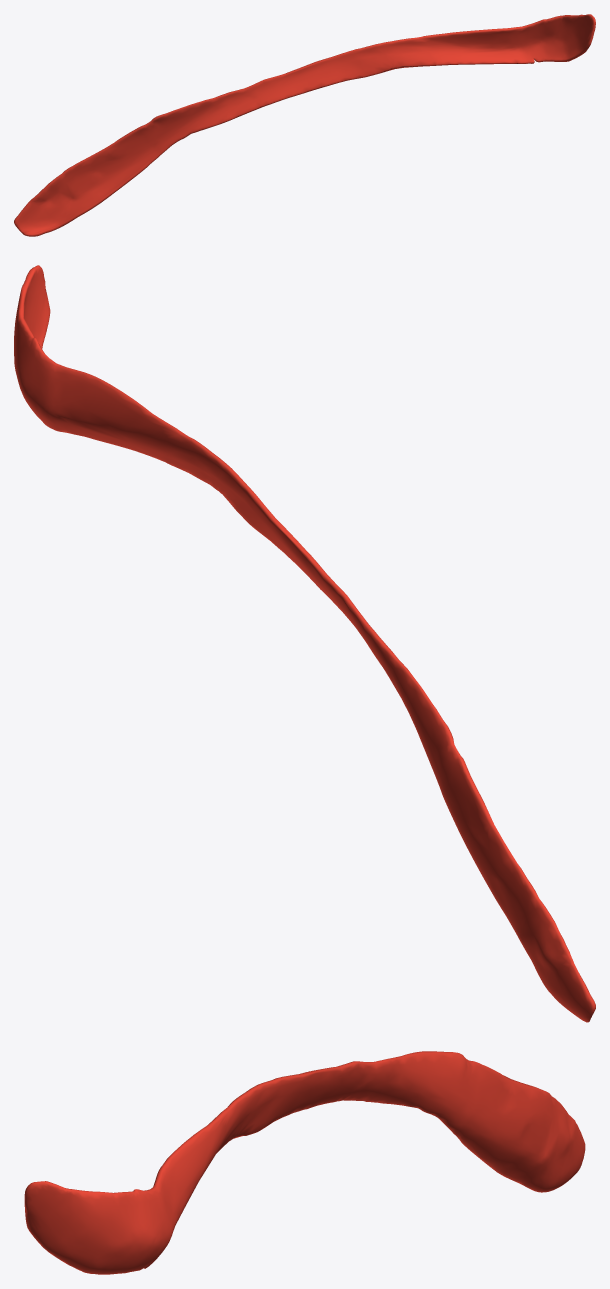
Rendered from Deltoid_scapular_head_scapular_insertion_left.glb.
3 renders of one model, top to bottom at view 1: azimuth 30°, elevation 25°; view 2: azimuth 150°, elevation 25°; view 3: azimuth 270°, elevation 25°, orthographic. The views are drawn at different scales.
Visible parts, largest first — view 1: Scapular_head_of_deltoid_muscle-Scapular_insertion.l_Generat; view 2: Scapular_head_of_deltoid_muscle-Scapular_insertion.l_Generat; view 3: Scapular_head_of_deltoid_muscle-Scapular_insertion.l_Generat.
Boxes of the visible parts, <box> form: Scapular_head_of_deltoid_muscle-Scapular_insertion.l_Generat: <box>14,14,595,236</box>; Scapular_head_of_deltoid_muscle-Scapular_insertion.l_Generat: <box>14,265,595,1022</box>; Scapular_head_of_deltoid_muscle-Scapular_insertion.l_Generat: <box>24,1051,585,1274</box>.
Bounding box in the file's own units: 0.0763 × 0.0347 × 0.0418.
